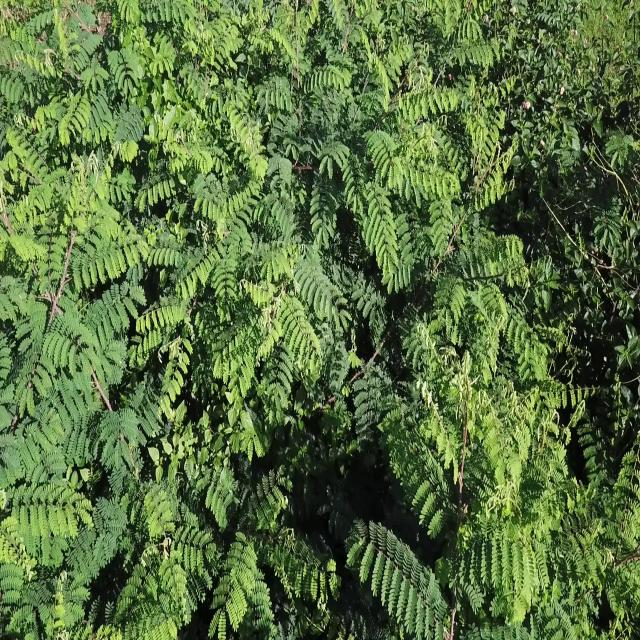Mysore-Thorn-Weed: (342, 346, 544, 627), (154, 176, 328, 438), (0, 187, 142, 424), (429, 76, 549, 347), (0, 434, 154, 639), (313, 76, 464, 277), (0, 0, 148, 171), (168, 477, 338, 624), (260, 8, 357, 176), (572, 426, 640, 602)
